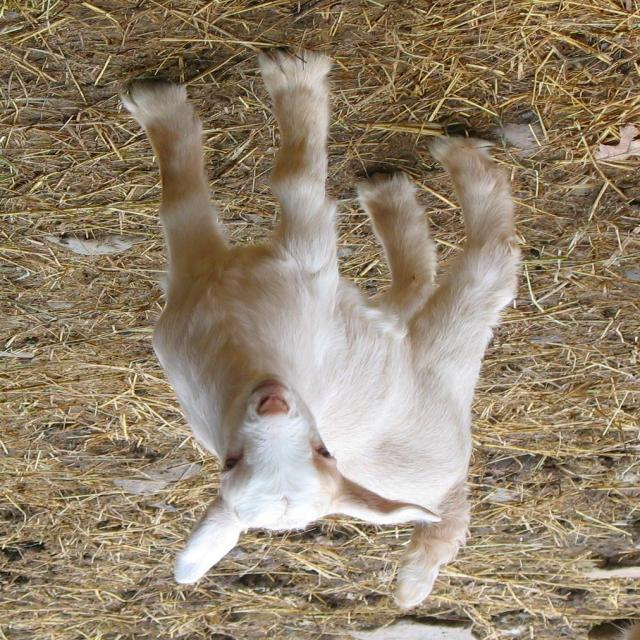Goat: (118, 47, 523, 610)
